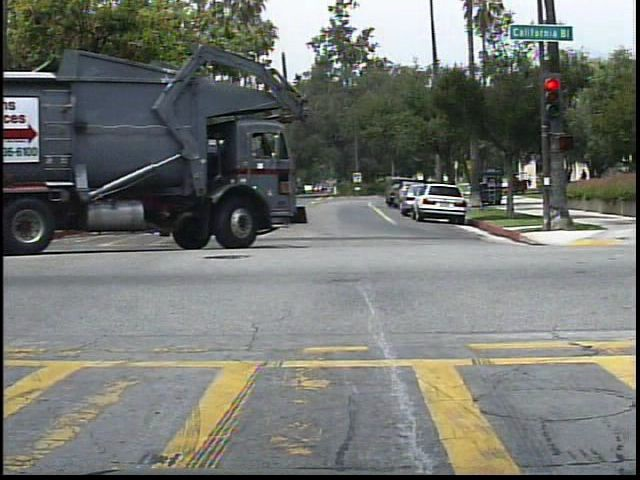person: (575, 163, 593, 194)
